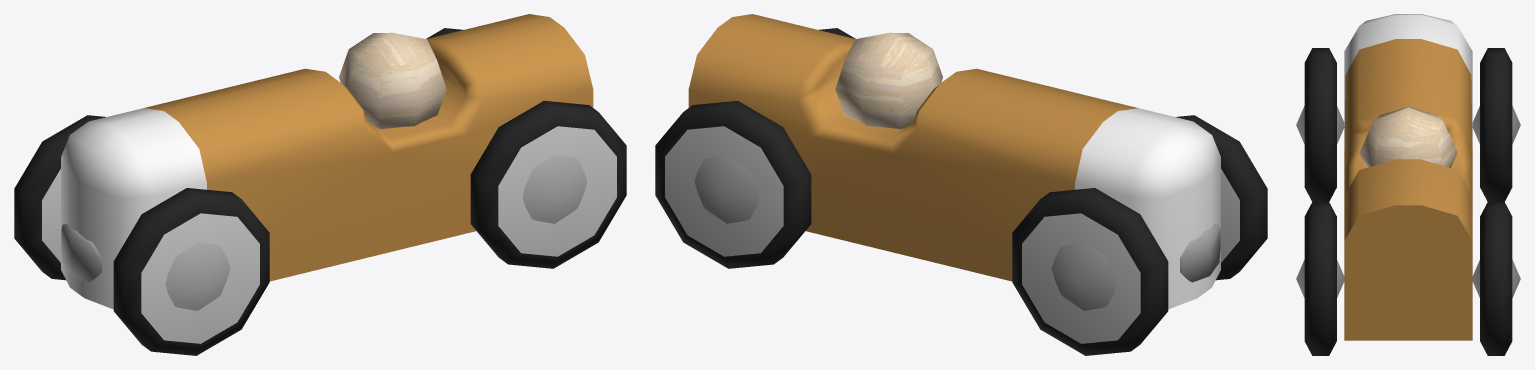
Rendered from prop_037.fbx.
3 renders of one model, left to right at view 1: azimuth 30°, elevation 25°; view 2: azimuth 150°, elevation 25°; view 3: azimuth 270°, elevation 25°, orthographic. The views are drawn at different scales.
Parts seen in each view (by area): view 1: prop_037; view 2: prop_037; view 3: prop_037.
Boxes of the visible parts, bbox=[...] form: prop_037: bbox=[14, 14, 626, 355]; prop_037: bbox=[655, 14, 1267, 355]; prop_037: bbox=[1296, 14, 1520, 355].
Bounding box in the file's own units: 42.99 × 18.83 × 18.12.
